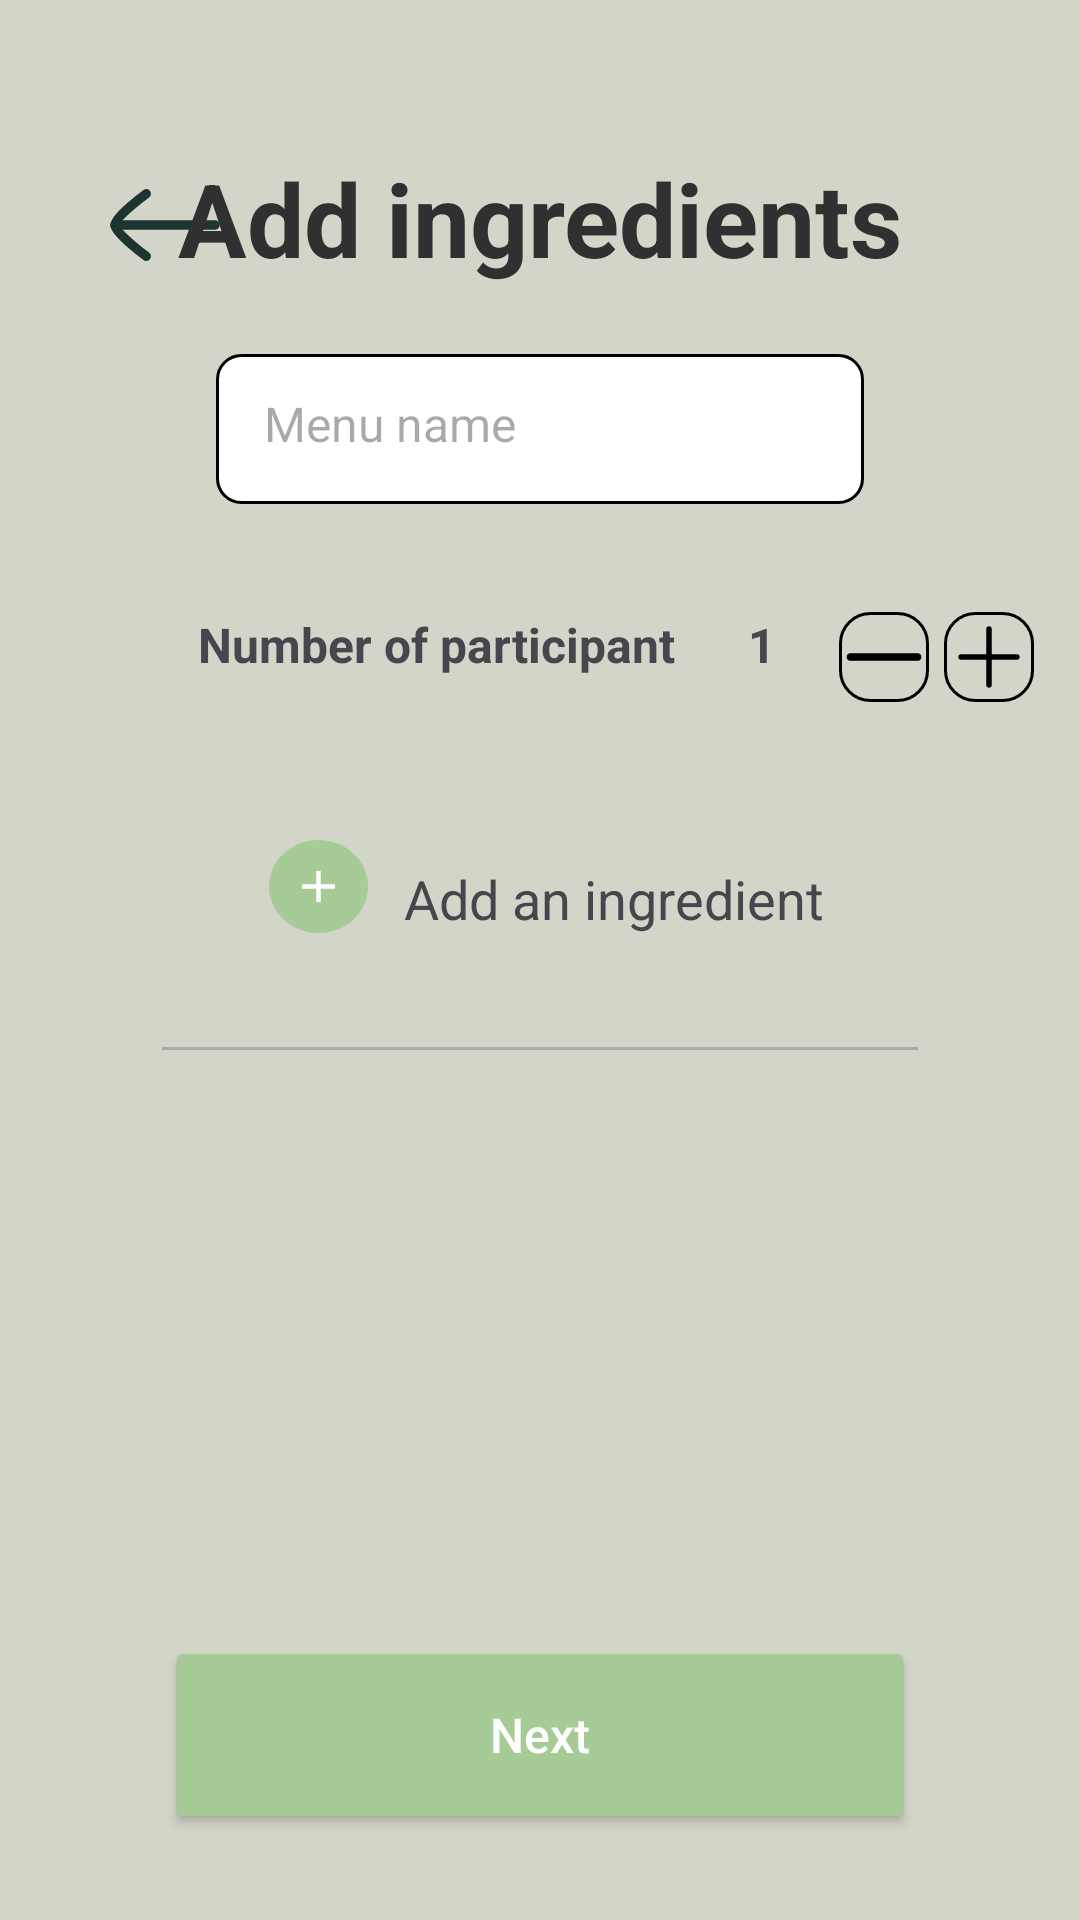

Screen size 1080x1920. Icon name, then its center in pixels as (x,y):
add form: (989,657)
remove form: (884,657)
